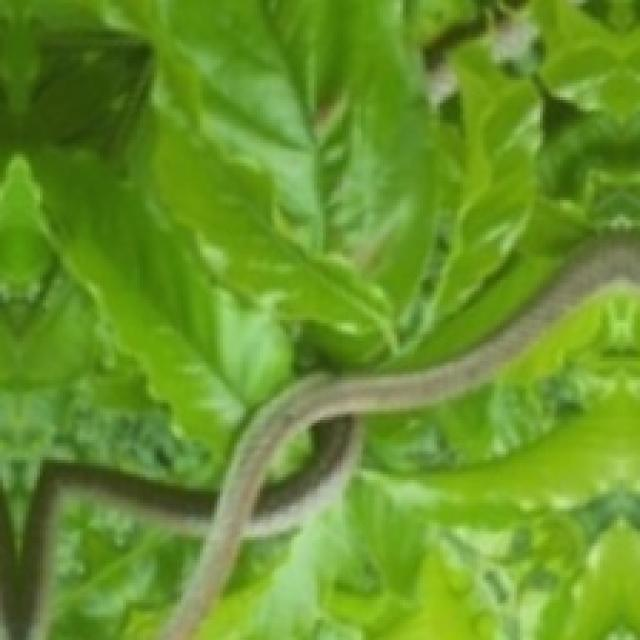paradise tree snake: (0, 234, 637, 637)
